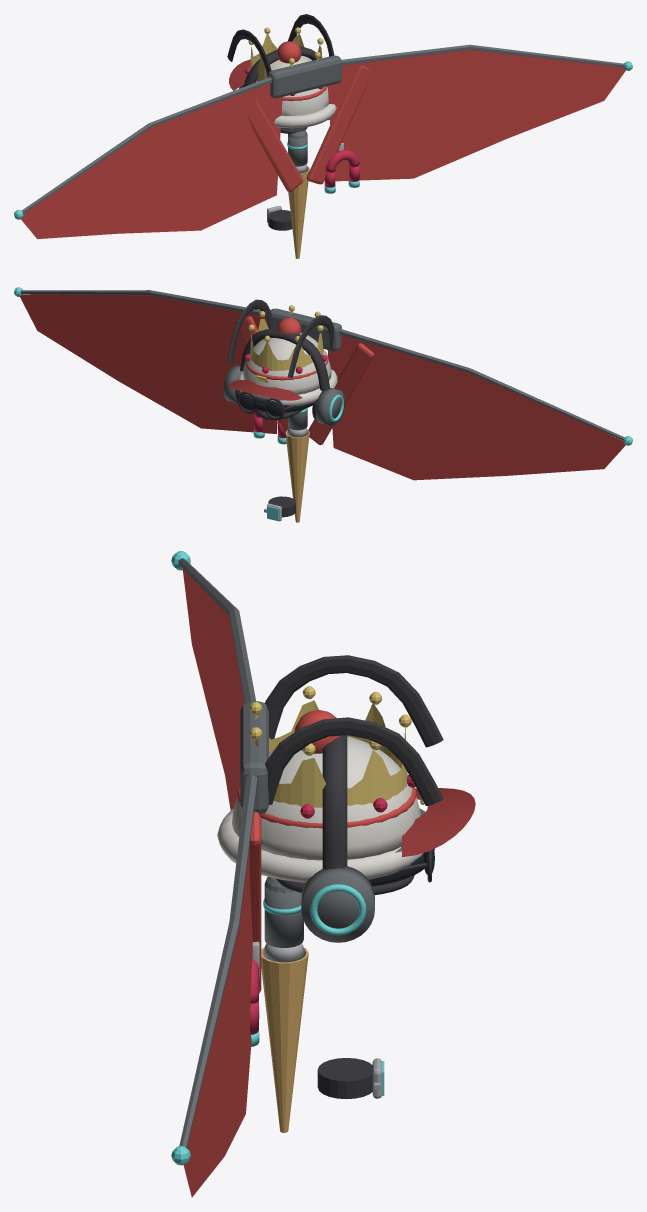
The model's file is gear.glb.
3 renders of one model, top to bottom at view 1: azimuth 30°, elevation 25°; view 2: azimuth 150°, elevation 25°; view 3: azimuth 270°, elevation 25°, orthographic. The views are drawn at different scales.
Visible parts, largest first — view 1: glider_open, glider, beanie, jet_l_fire, magnet, crown, jet_l, chrono, headphones, cap; view 2: glider_open, glider, beanie, headphones, crown, jet_l_fire, cap, shades, jet_l, chrono, magnet, visor; view 3: glider_open, glider, beanie, headphones, crown, jet_l_fire, jet_l, cap, chrono, magnet.
Boxes of the visible parts, left/top/right/bottom form: glider_open: left=14, top=44, right=632, bottom=239; glider: left=227, top=14, right=372, bottom=192; beanie: left=245, top=41, right=336, bottom=128; jet_l_fire: left=288, top=166, right=309, bottom=258; magnet: left=324, top=143, right=359, bottom=193; crown: left=244, top=27, right=323, bottom=95; jet_l: left=280, top=127, right=308, bottom=173; chrono: left=267, top=206, right=292, bottom=230; headphones: left=243, top=46, right=329, bottom=120; cap: left=229, top=59, right=306, bottom=127; glider_open: left=14, top=287, right=632, bottom=480; glider: left=227, top=299, right=374, bottom=445; beanie: left=238, top=317, right=337, bottom=406; headphones: left=223, top=329, right=344, bottom=425; crown: left=244, top=305, right=326, bottom=373; jet_l_fire: left=285, top=430, right=309, bottom=522; cap: left=229, top=375, right=302, bottom=400; shades: left=237, top=391, right=299, bottom=419; jet_l: left=256, top=408, right=308, bottom=437; chrono: left=264, top=496, right=295, bottom=521; magnet: left=253, top=411, right=286, bottom=444; visor: left=251, top=394, right=312, bottom=412; glider_open: left=171, top=551, right=257, bottom=1197; glider: left=240, top=655, right=443, bottom=993; beanie: left=217, top=710, right=422, bottom=882; headphones: left=301, top=735, right=374, bottom=942; crown: left=249, top=686, right=415, bottom=818; jet_l_fire: left=261, top=947, right=308, bottom=1132; jet_l: left=262, top=875, right=414, bottom=962; cap: left=402, top=788, right=475, bottom=857; chrono: left=317, top=1058, right=384, bottom=1099; magnet: left=250, top=941, right=259, bottom=1046.
Bounding box in the file's own units: 1.74 × 0.5998 × 0.372.
